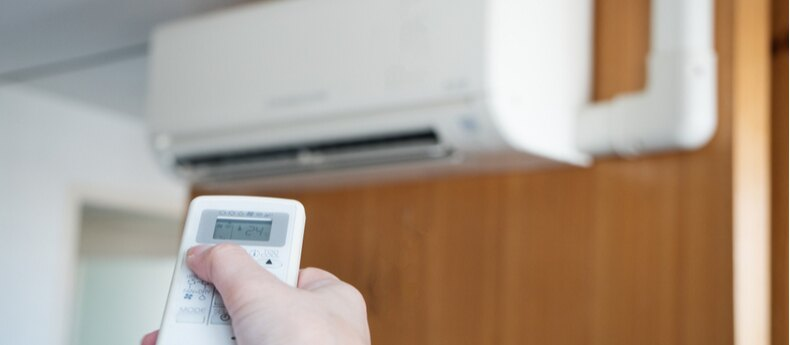ac: (139, 2, 595, 196)
